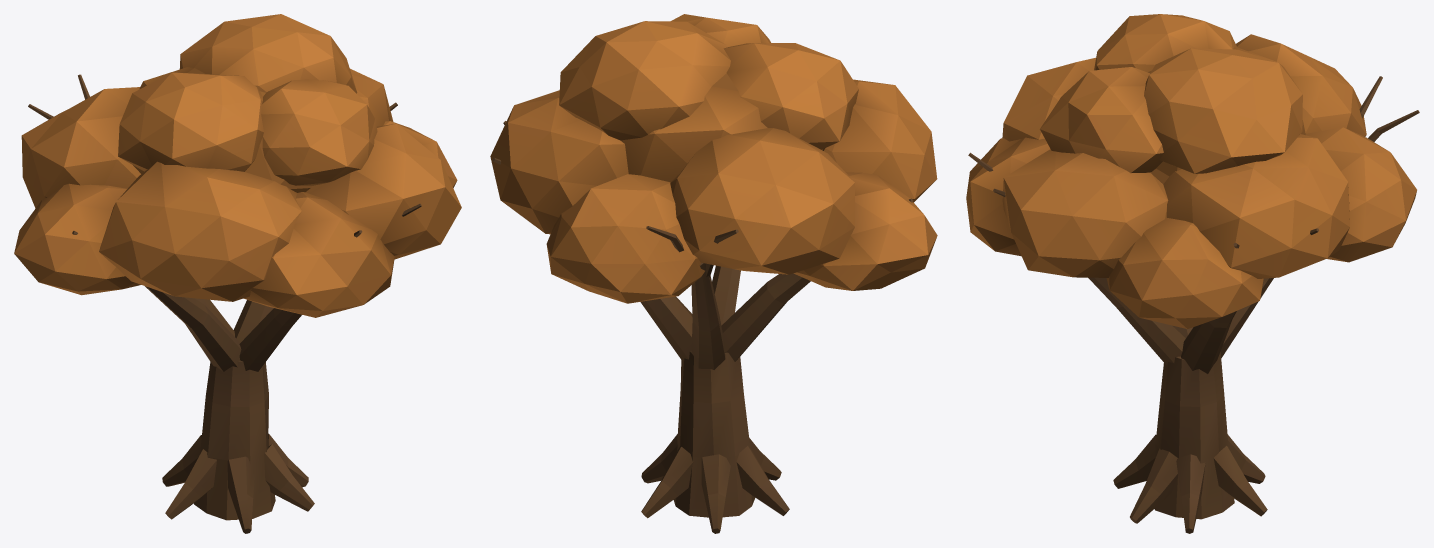
The model's file is tree_big_oak.glb.
3 renders of one model, left to right at view 1: azimuth 30°, elevation 25°; view 2: azimuth 150°, elevation 25°; view 3: azimuth 270°, elevation 25°, orthographic. The views are drawn at different scales.
Bounding box in the file's own units: 11.77 × 12.28 × 10.87.
